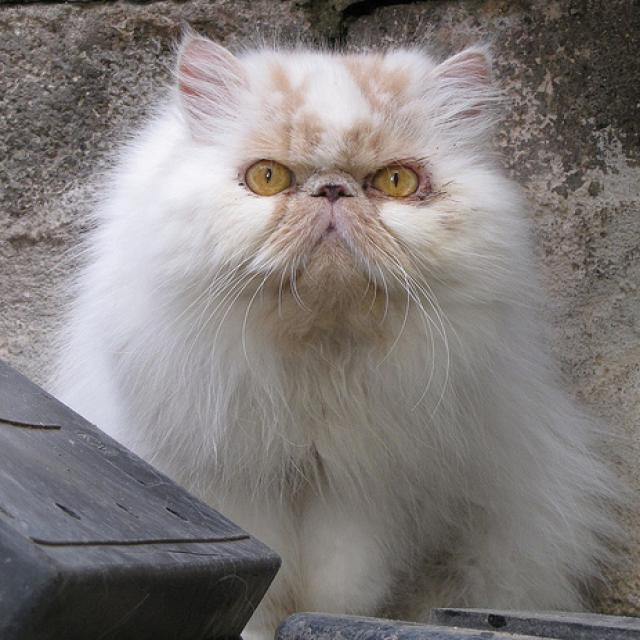Persian: (174, 34, 498, 283)
